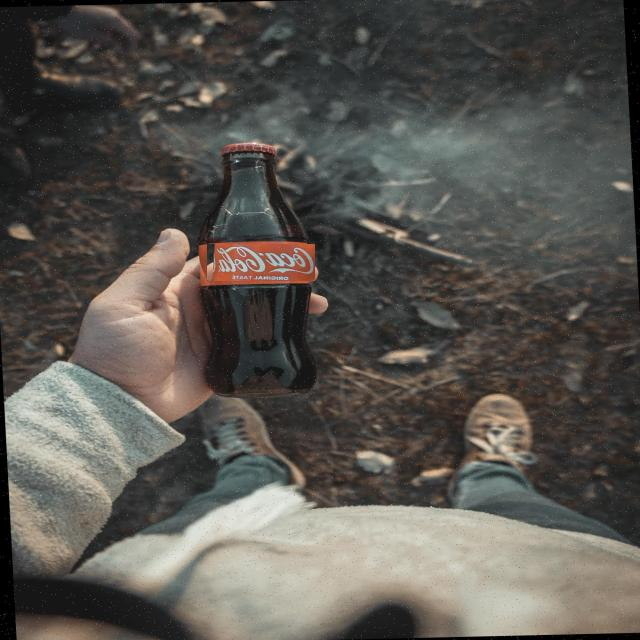coca-cola: (207, 244, 315, 281)
